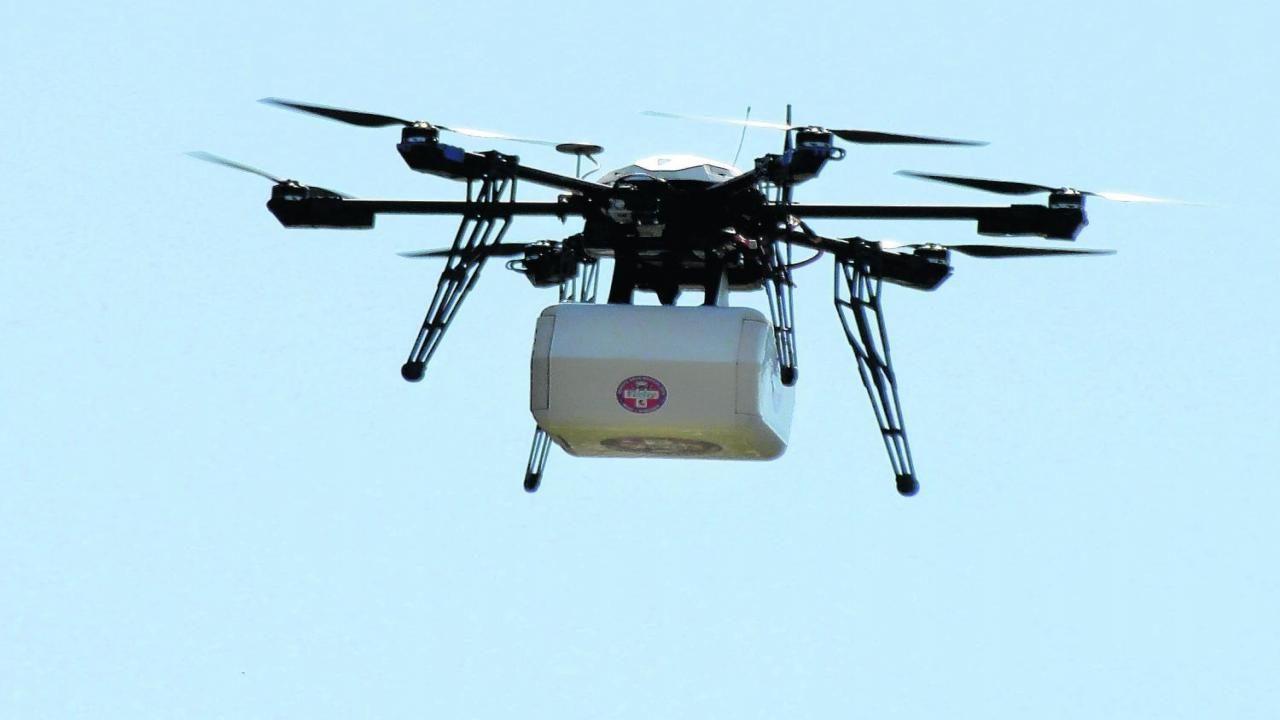Drone: (167, 45, 1204, 505)
